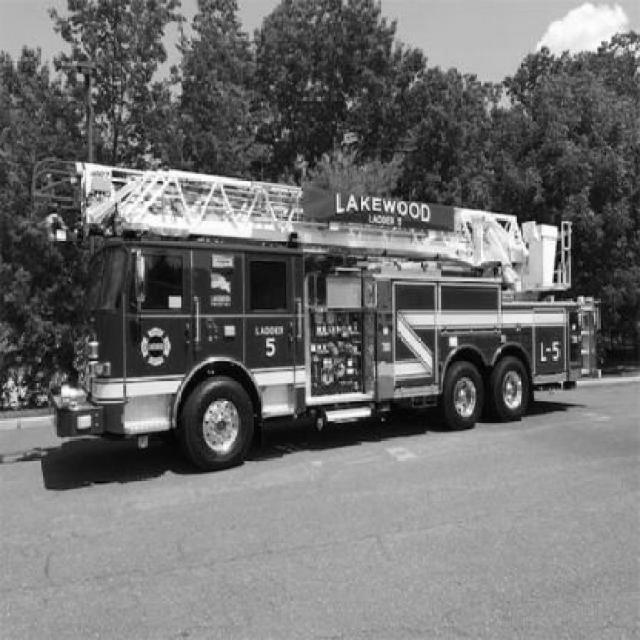Fire Truck: (26, 156, 601, 474)
